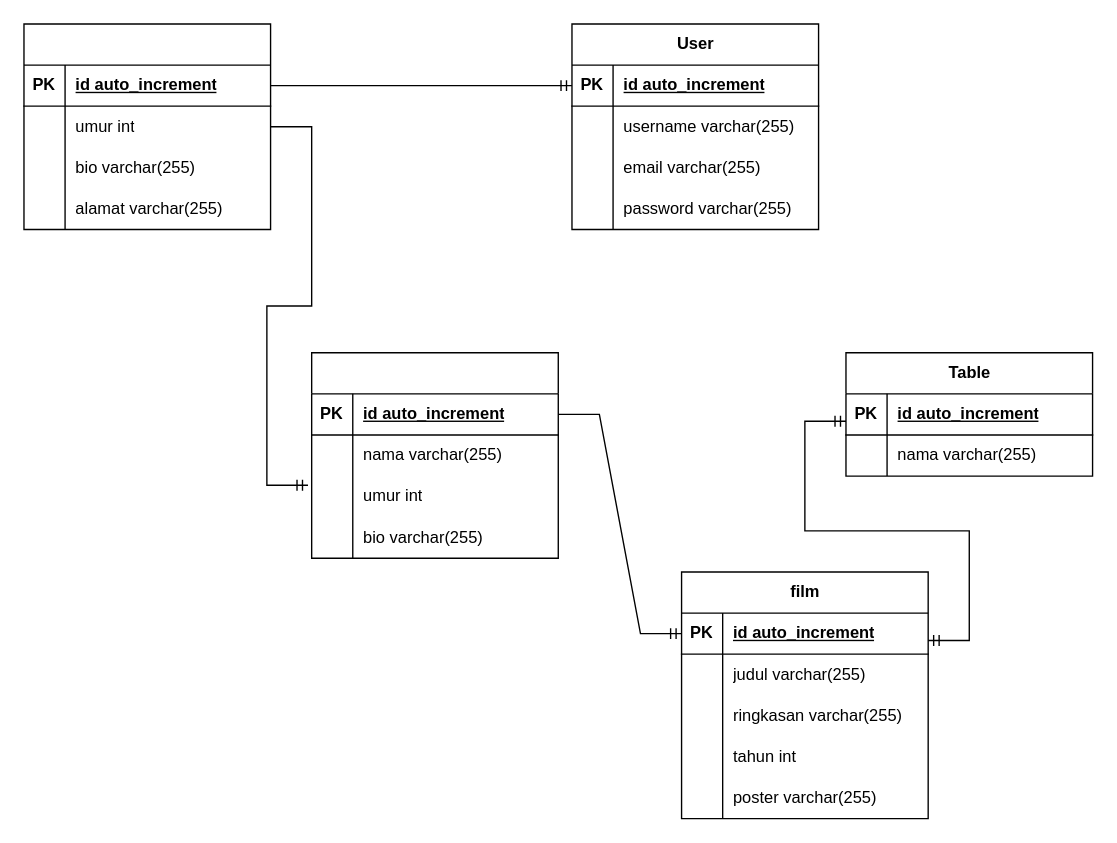
The diagram is 1117 pixels wide and 843 high, and some of its shapes have lost their labels. Here are the shapes that lost their labels. From the top down, the box of each, then its label:
(23, 23, 271, 229): Profil
(310, 351, 558, 558): cast
